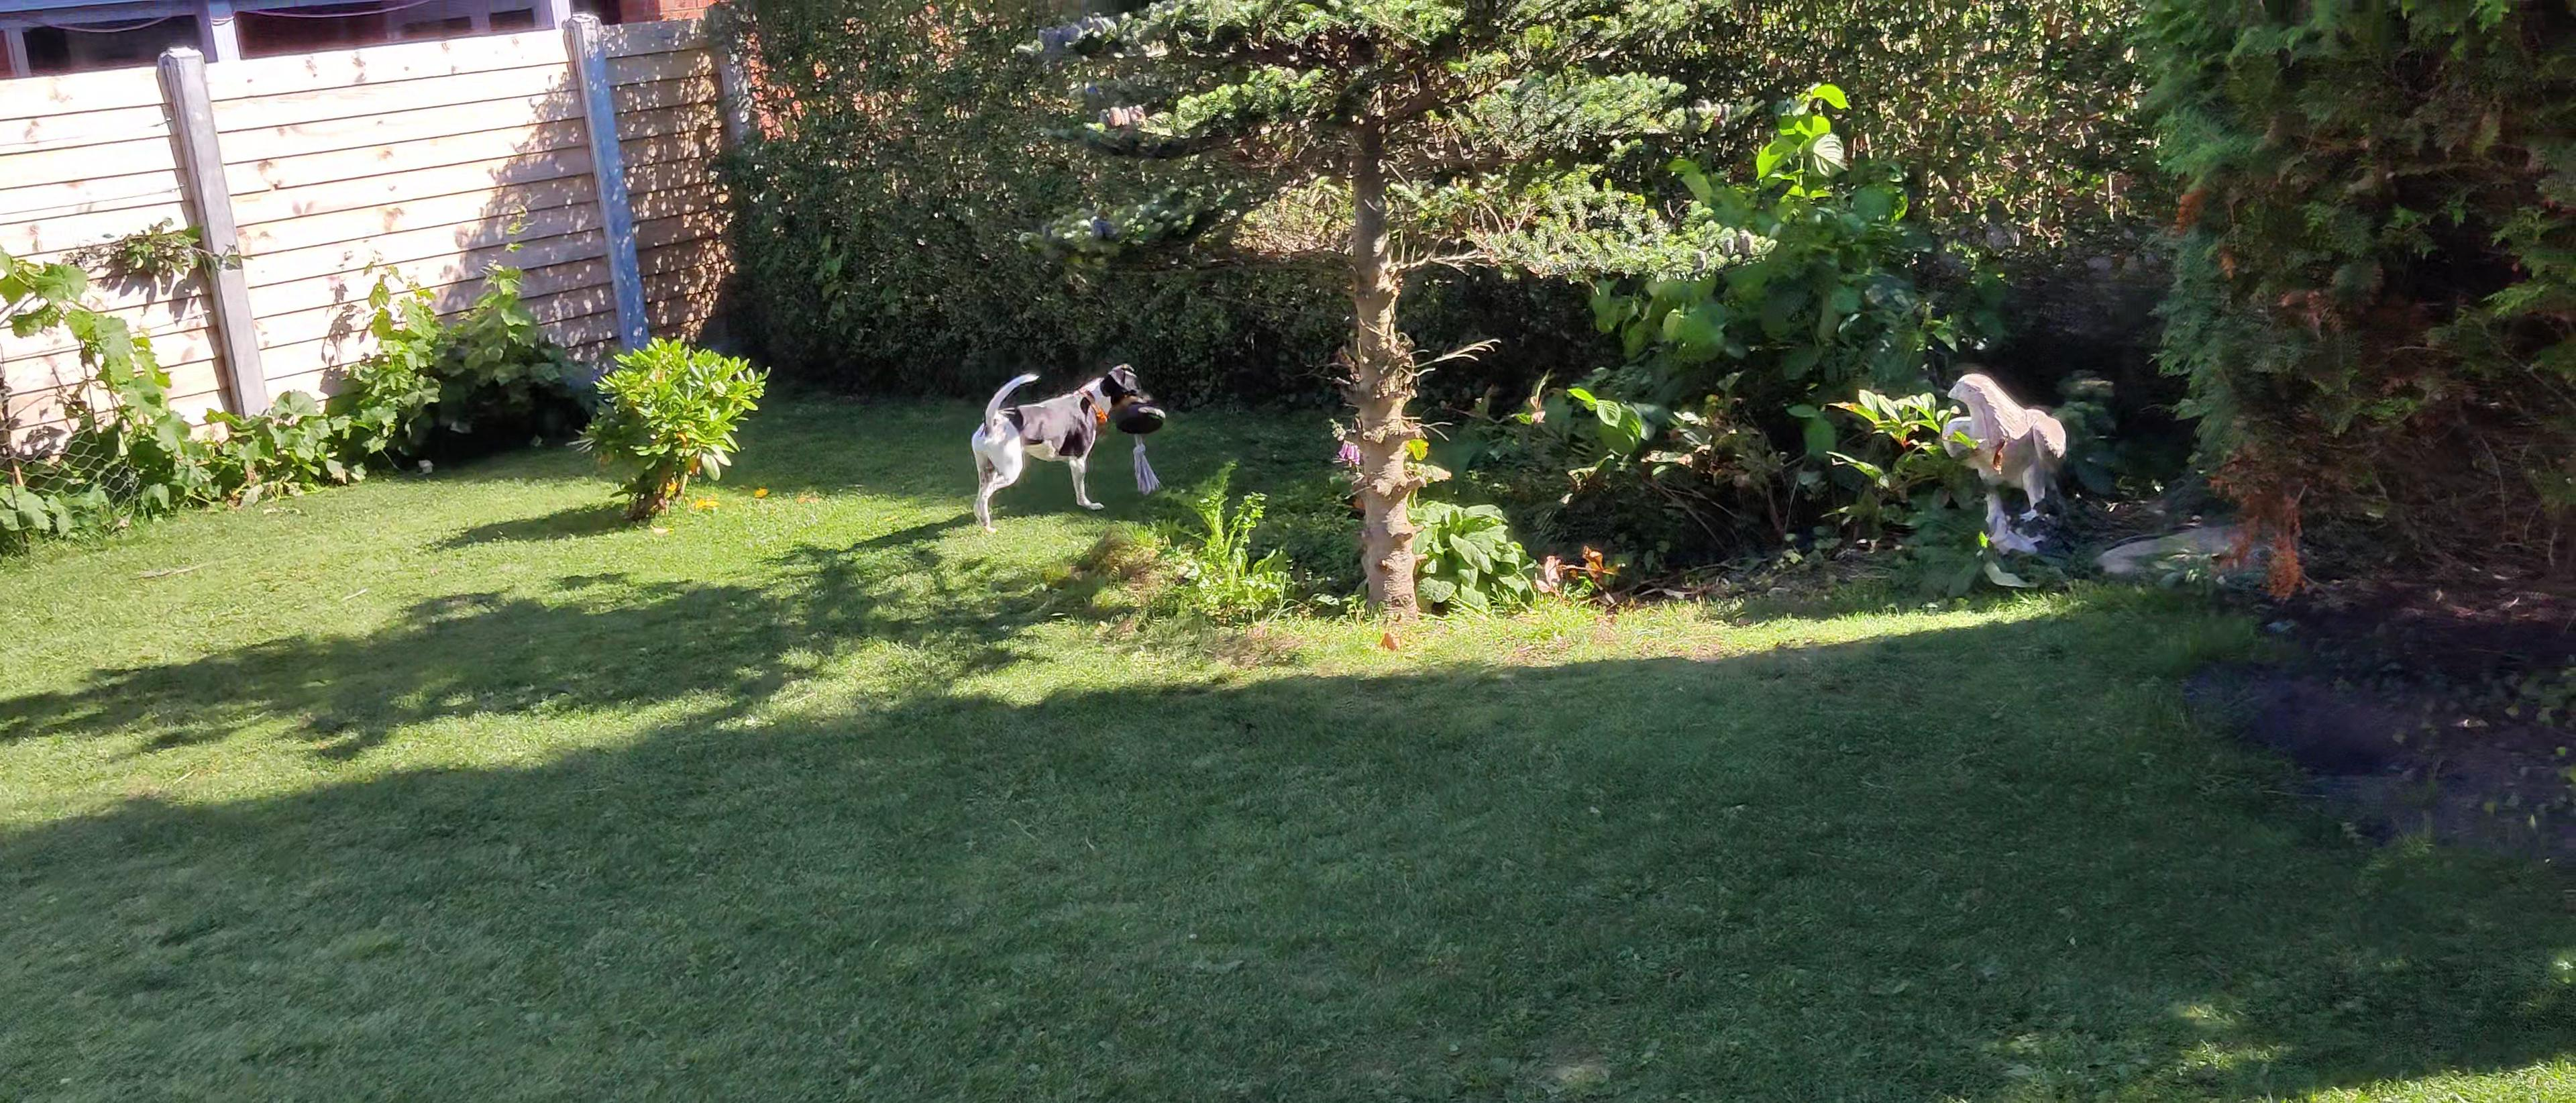Dog: (966, 360, 1160, 531)
